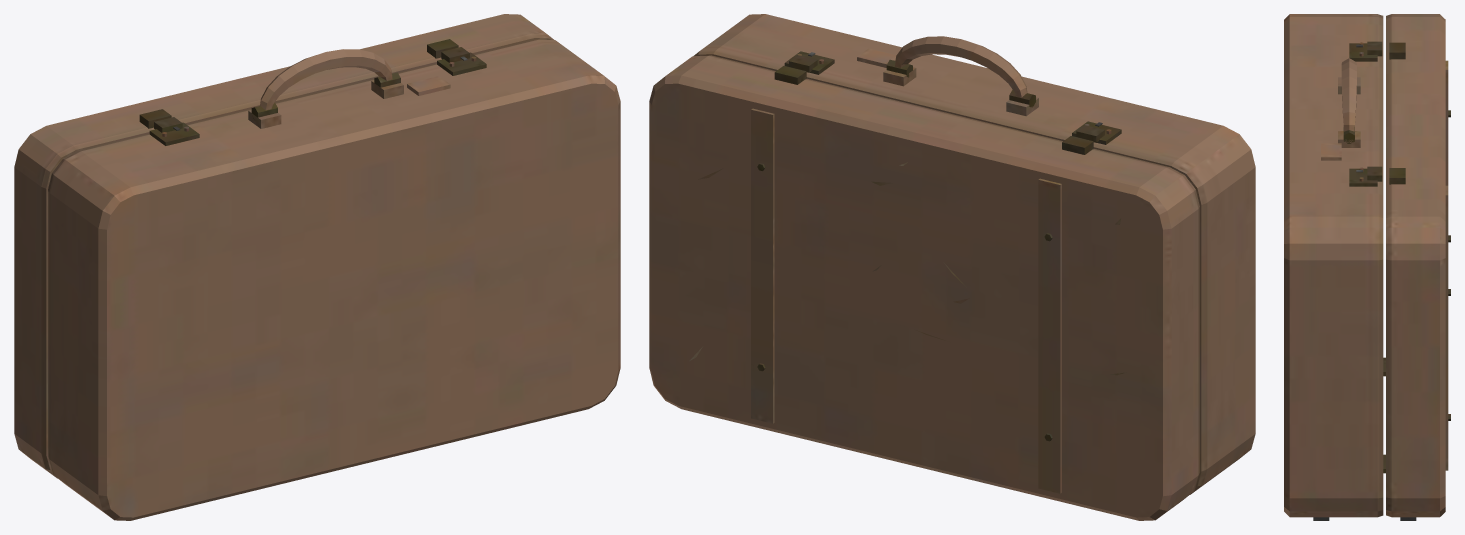
File: B14_old_suitcase_v1.glb
The picture shows the model from 3 angles, left to right: view 1: azimuth 30°, elevation 25°; view 2: azimuth 150°, elevation 25°; view 3: azimuth 270°, elevation 25°; orthographic projection. The views are drawn at different scales.
Visible parts, largest first — view 1: Leather suitcase; view 2: Leather suitcase; view 3: Leather suitcase.
Part boxes in pixels (left/top/right/bottom): Leather suitcase: left=14, top=14, right=620, bottom=520; Leather suitcase: left=649, top=14, right=1255, bottom=520; Leather suitcase: left=1284, top=14, right=1450, bottom=520.
Bounding box in the file's own units: 0.6 × 0.4384 × 0.1858.
Materials: 7 (7 with a texture image).
